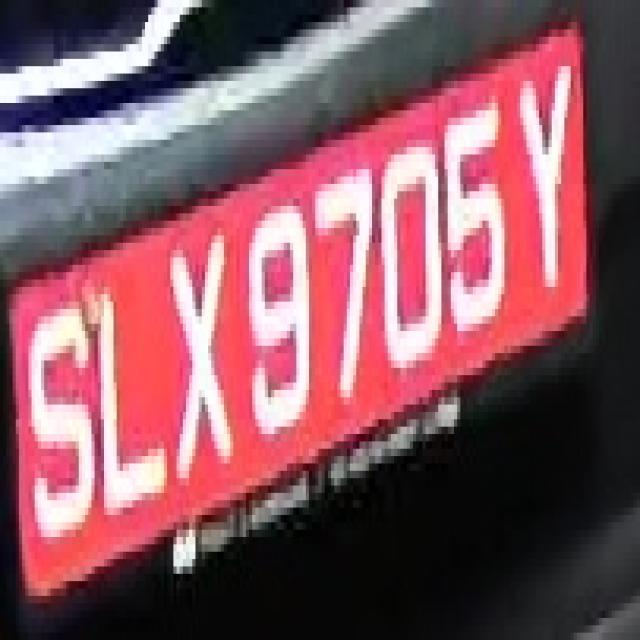0: (369, 147, 444, 412)
5: (432, 81, 514, 368)
7: (309, 154, 381, 420)
9: (243, 214, 318, 464)
L: (94, 294, 160, 522)
S: (22, 280, 95, 559)
X: (164, 213, 240, 493)
Y: (514, 8, 589, 294)
